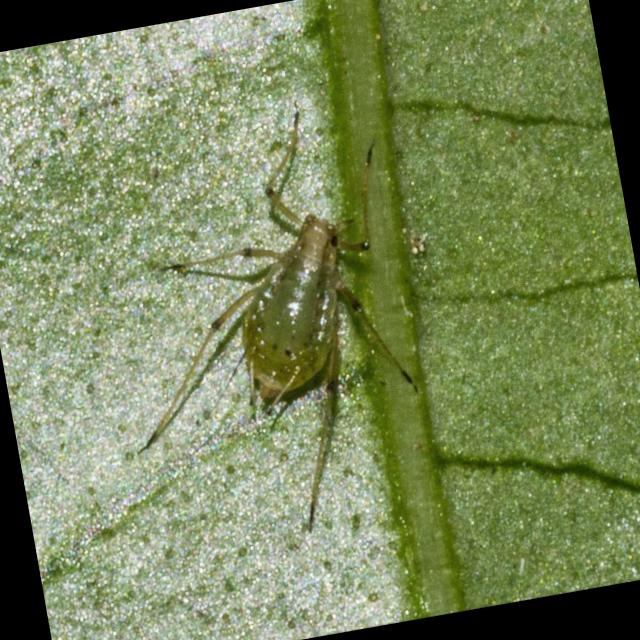Aphid: (132, 133, 440, 519)
